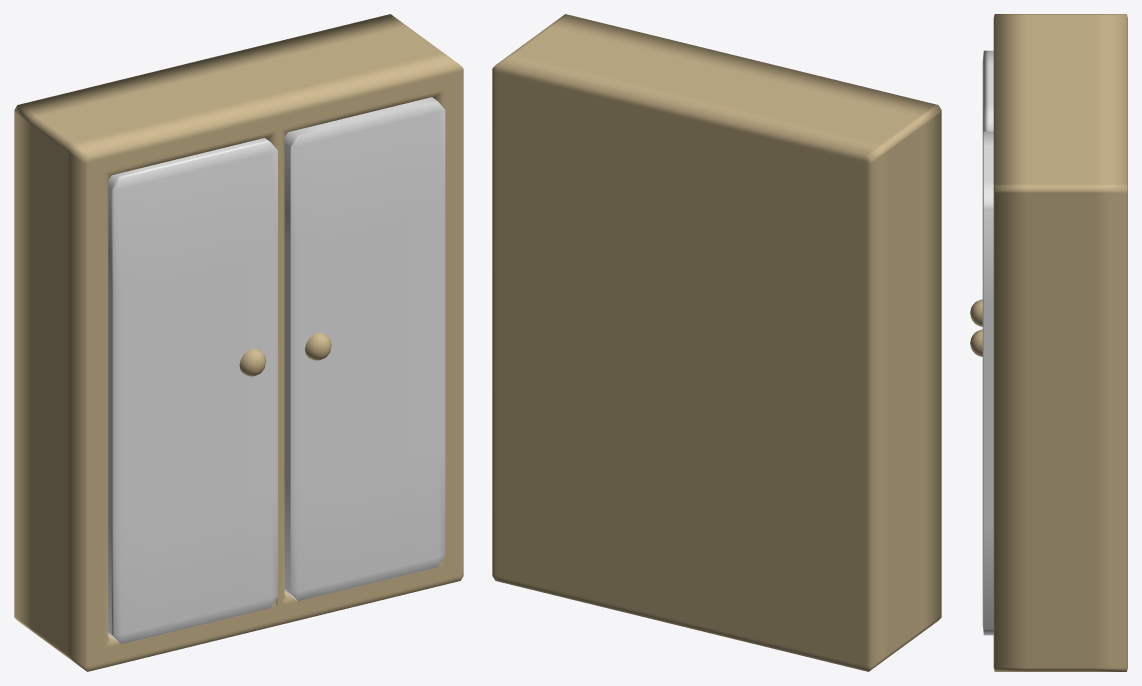
The model's file is Armario.fbx.
3 renders of one model, left to right at view 1: azimuth 30°, elevation 25°; view 2: azimuth 150°, elevation 25°; view 3: azimuth 270°, elevation 25°, orthographic. The views are drawn at different scales.
Parts seen in each view (by area): view 1: Cube; view 2: Cube; view 3: Cube.
Part boxes in pixels (x1,y1,x2,y2): Cube: (14, 14, 463, 671); Cube: (492, 14, 941, 671); Cube: (970, 14, 1127, 671).
Bounding box in the file's own units: 66.03 × 85.74 × 25.24.
